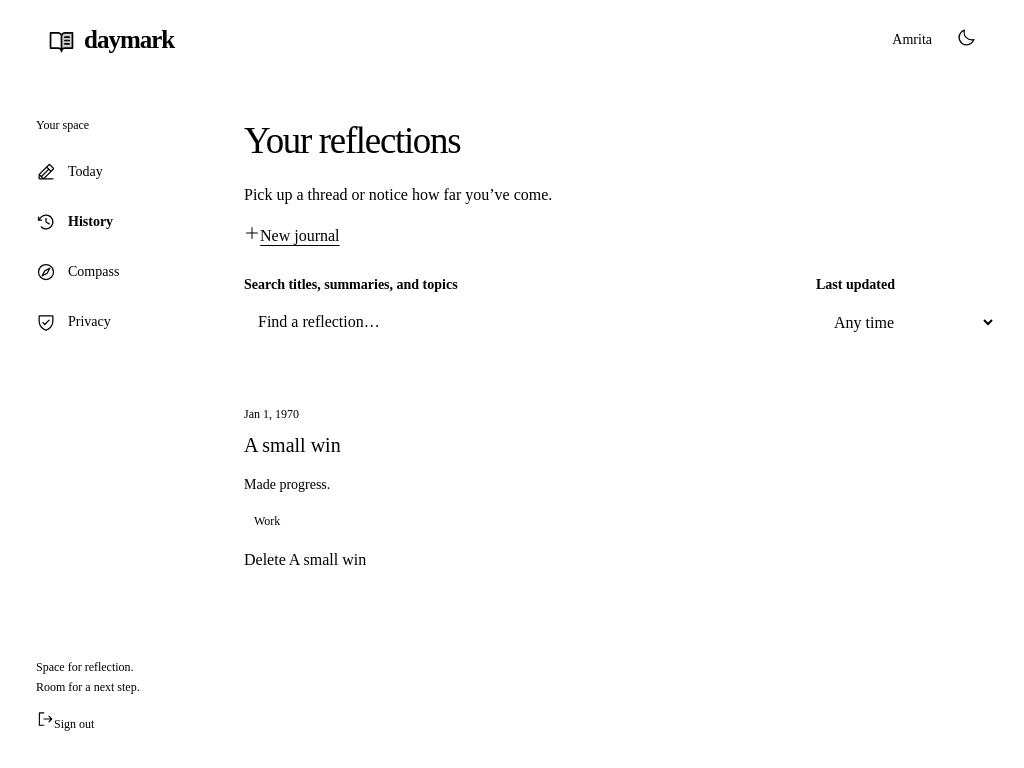
Scenario: loads history and narrows it by title
Expected: the link "A small win" is shown, [244,434,341,456]
In the search field labelled "Search titles, summaries, and topics": (520, 322) [244,301,796,343], type "unmatched"
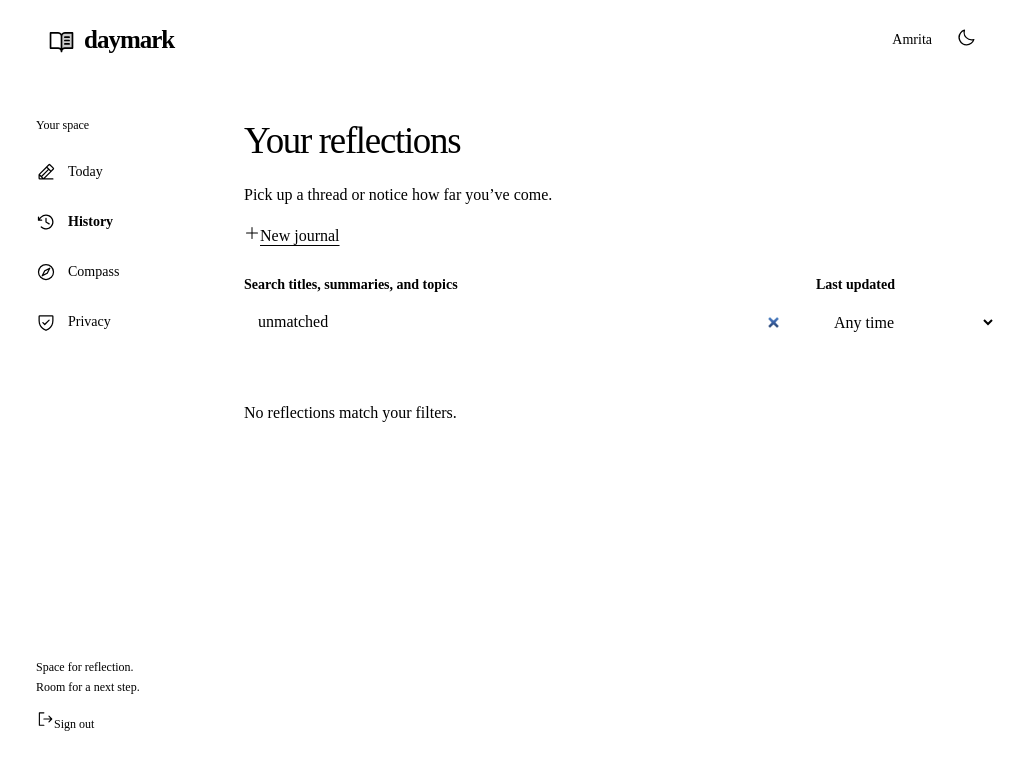
Now the link "A small win" is gone
Now the text "No reflections match your filters." is shown, box [244,404,457,421]
